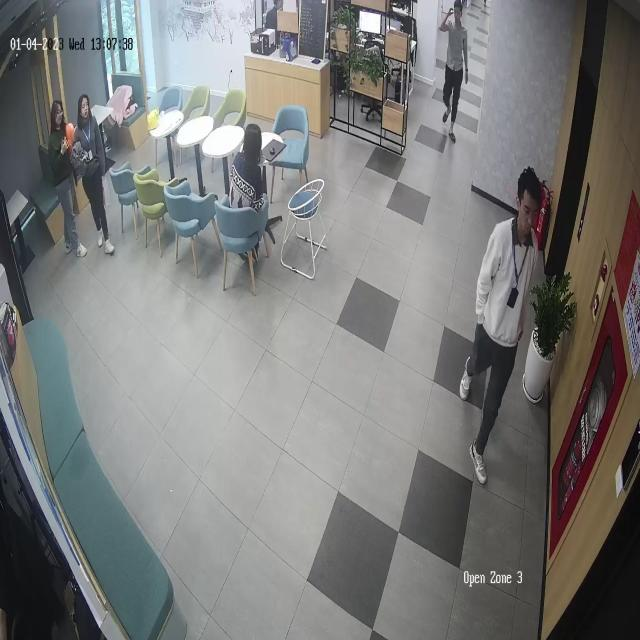person: (460, 163, 548, 486), (71, 94, 115, 257), (228, 121, 278, 259), (48, 98, 88, 259), (438, 0, 469, 145)
